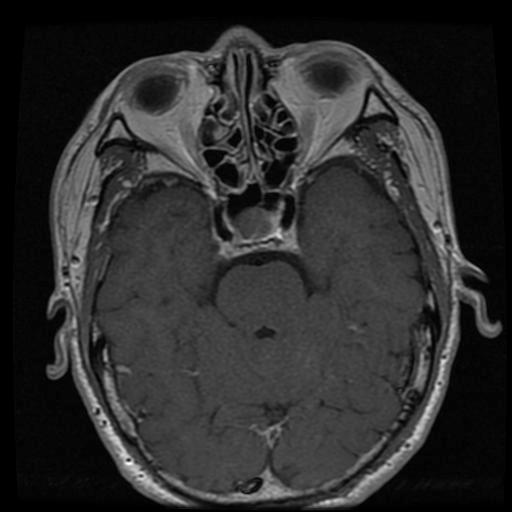Tumour-Pituitary: (208, 197, 309, 265)
